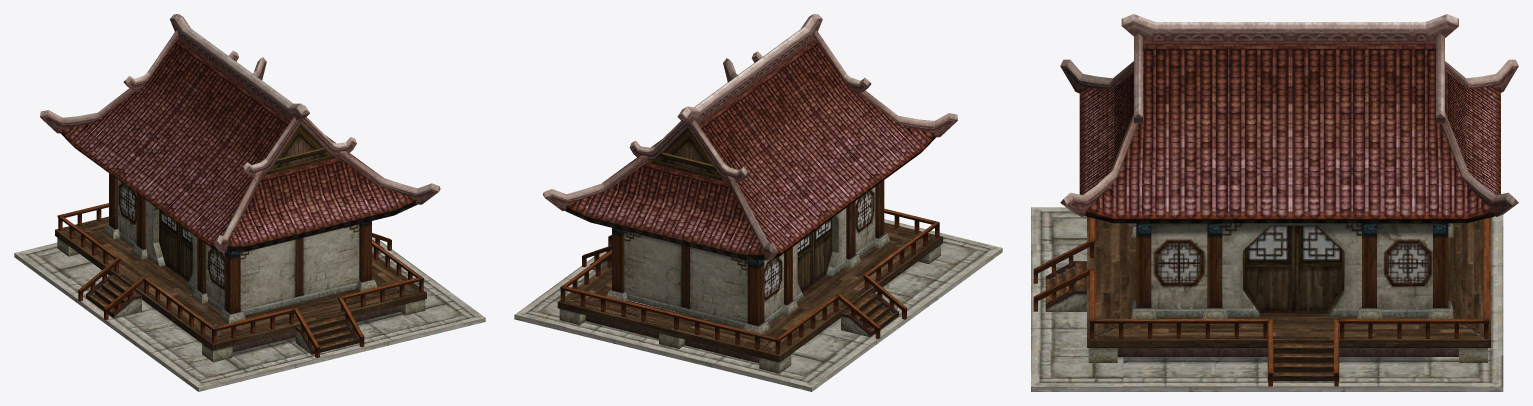
The model's file is a1-008-house5.glb.
3 views of the same model, side by side, from view 1: azimuth 30°, elevation 25°; view 2: azimuth 150°, elevation 25°; view 3: azimuth 270°, elevation 25° (orthographic). The views are drawn at different scales.
Parts seen in each view (by area): view 1: a1-008-house5-03; view 2: a1-008-house5-03; view 3: a1-008-house5-03.
Part boxes in pixels (x1,y1,x2,y2): a1-008-house5-03: [14, 14, 485, 391]; a1-008-house5-03: [514, 14, 1002, 391]; a1-008-house5-03: [1031, 14, 1518, 391].
Size of the model in its own units: 14.74 by 11 by 16.91.
3 materials, 3 textured.
